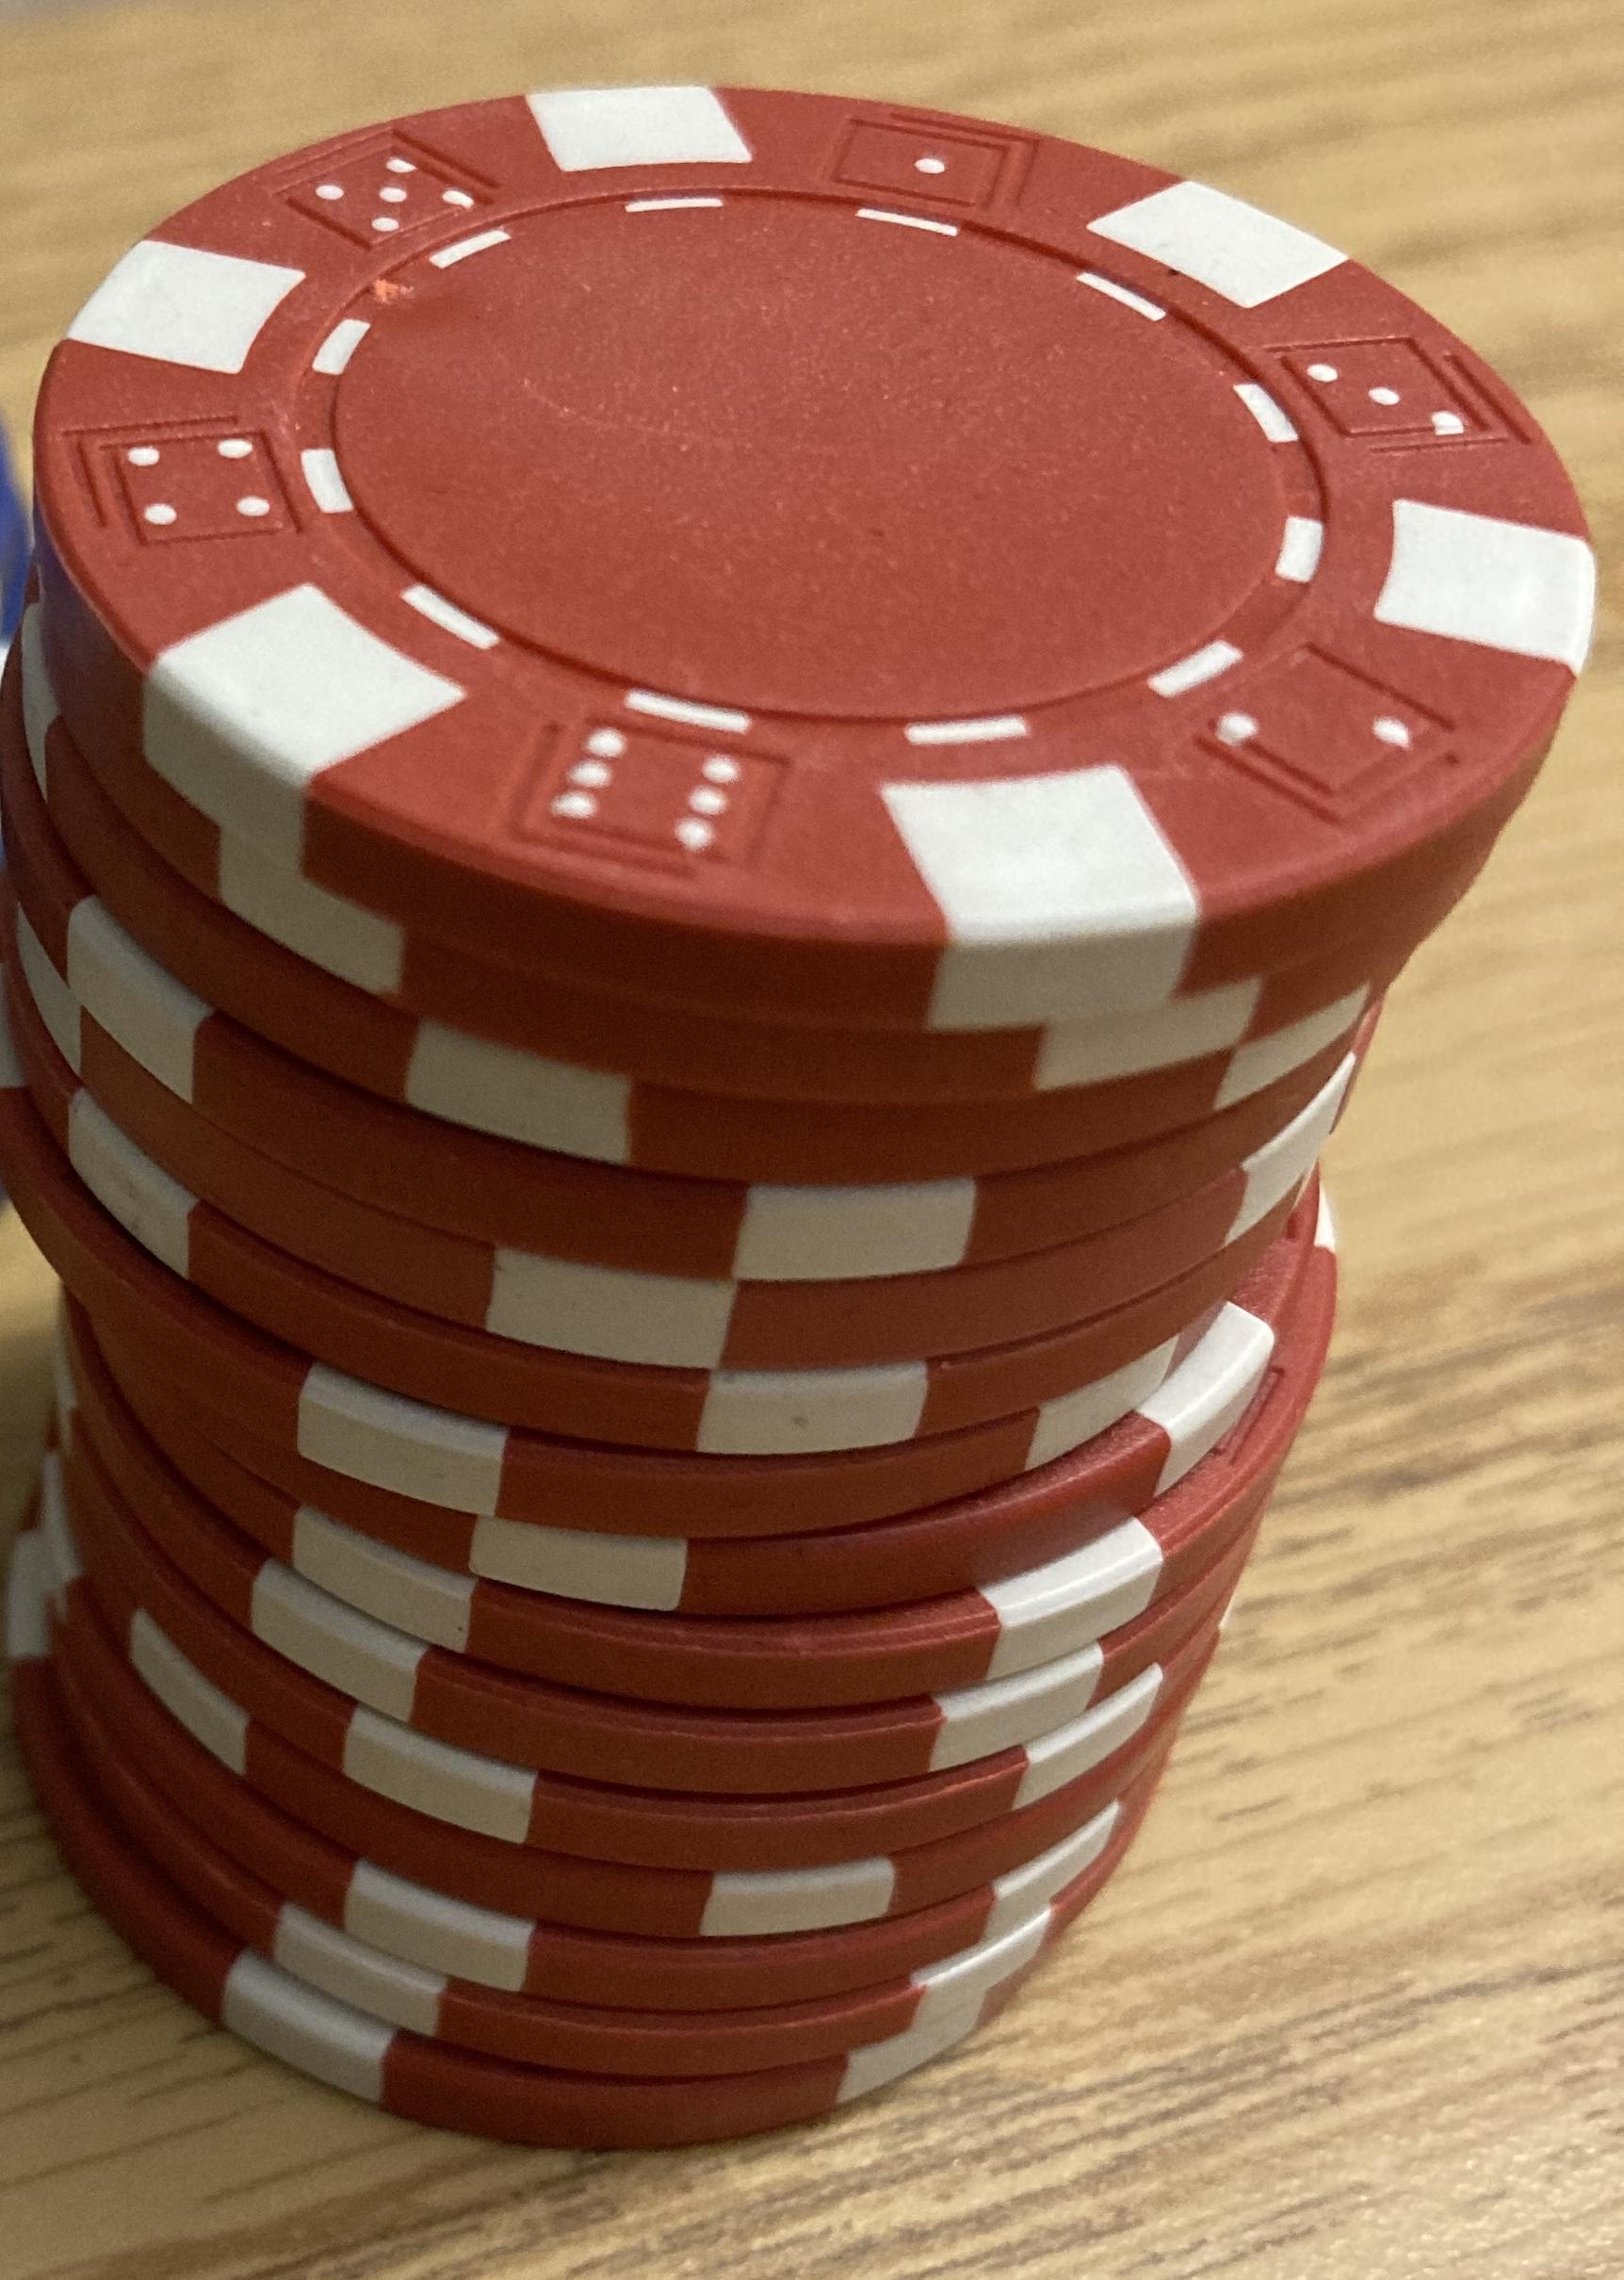Chip: (2, 2, 1624, 2280)
